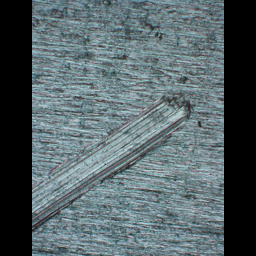d: (32, 92, 195, 235)
